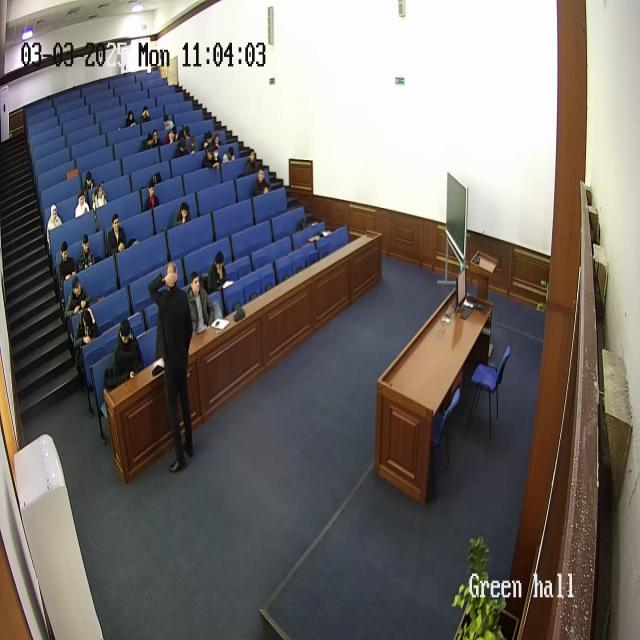person: (149, 259, 195, 472), (108, 318, 144, 390), (73, 307, 99, 382), (186, 271, 214, 337), (64, 278, 88, 324), (205, 251, 227, 295), (58, 240, 77, 290), (106, 212, 128, 255), (76, 233, 96, 273), (46, 202, 62, 244), (252, 167, 270, 197), (74, 188, 90, 218), (174, 201, 192, 227), (92, 183, 108, 211), (144, 180, 158, 212), (158, 110, 176, 132), (245, 148, 259, 175), (176, 132, 190, 158), (202, 145, 217, 169), (82, 170, 94, 200), (163, 127, 177, 148), (146, 128, 160, 149), (222, 145, 236, 165), (201, 132, 214, 152), (140, 104, 150, 123), (125, 109, 135, 127), (180, 124, 192, 139), (214, 130, 221, 150)
